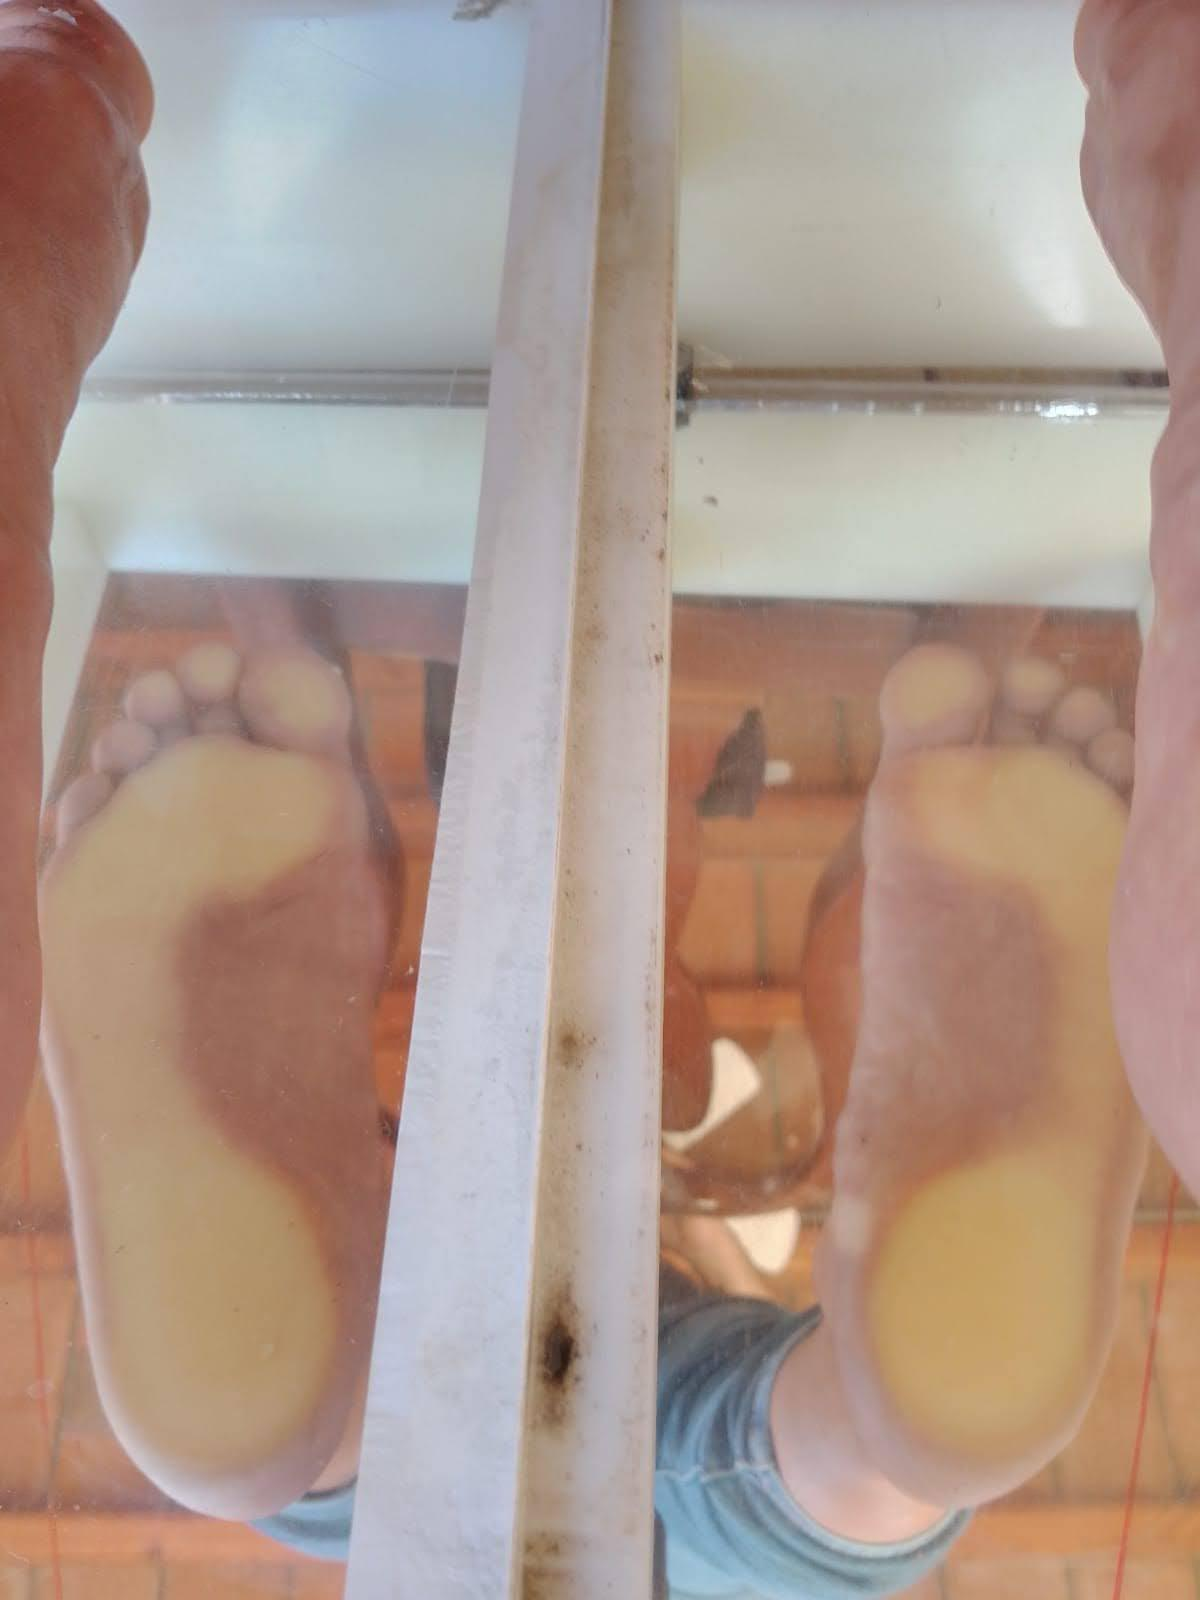9: (32, 601, 426, 1536)
Present: (792, 621, 1155, 1508)
